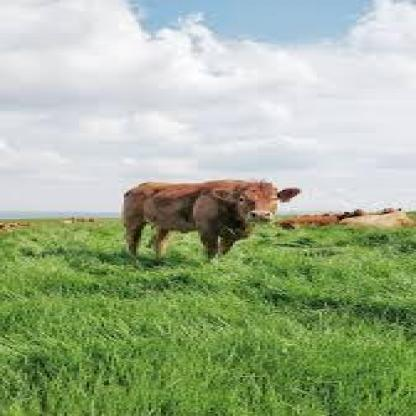cow: (122, 181, 306, 266)
